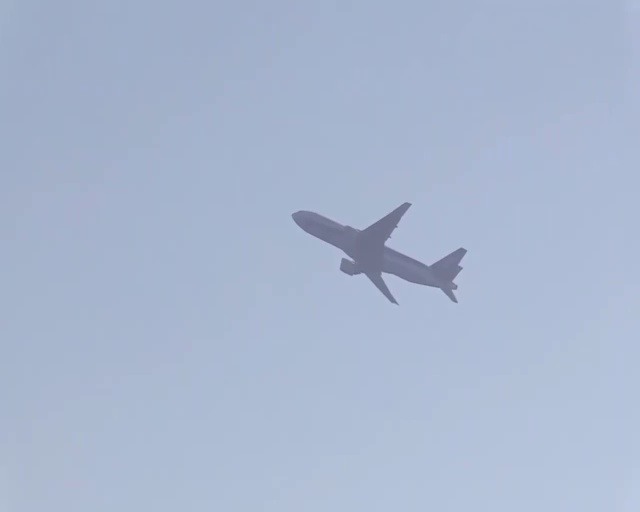AIRPLANE: (292, 200, 468, 306)
